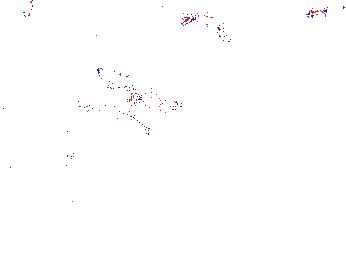X-ray fish: (143, 1, 184, 12)
glassfish: (68, 92, 159, 147), (1, 92, 81, 150)
red belly glassfish: (305, 4, 346, 22), (249, 90, 266, 115)
redtail glassfish: (180, 7, 233, 45), (128, 83, 185, 112), (94, 66, 141, 98)
